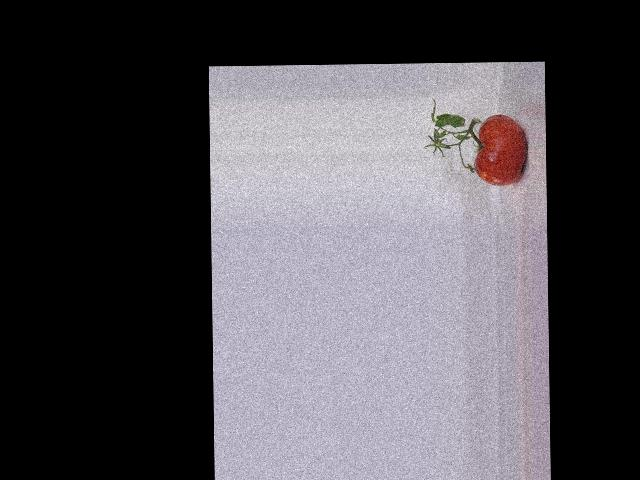tomato: (473, 114, 527, 186)
